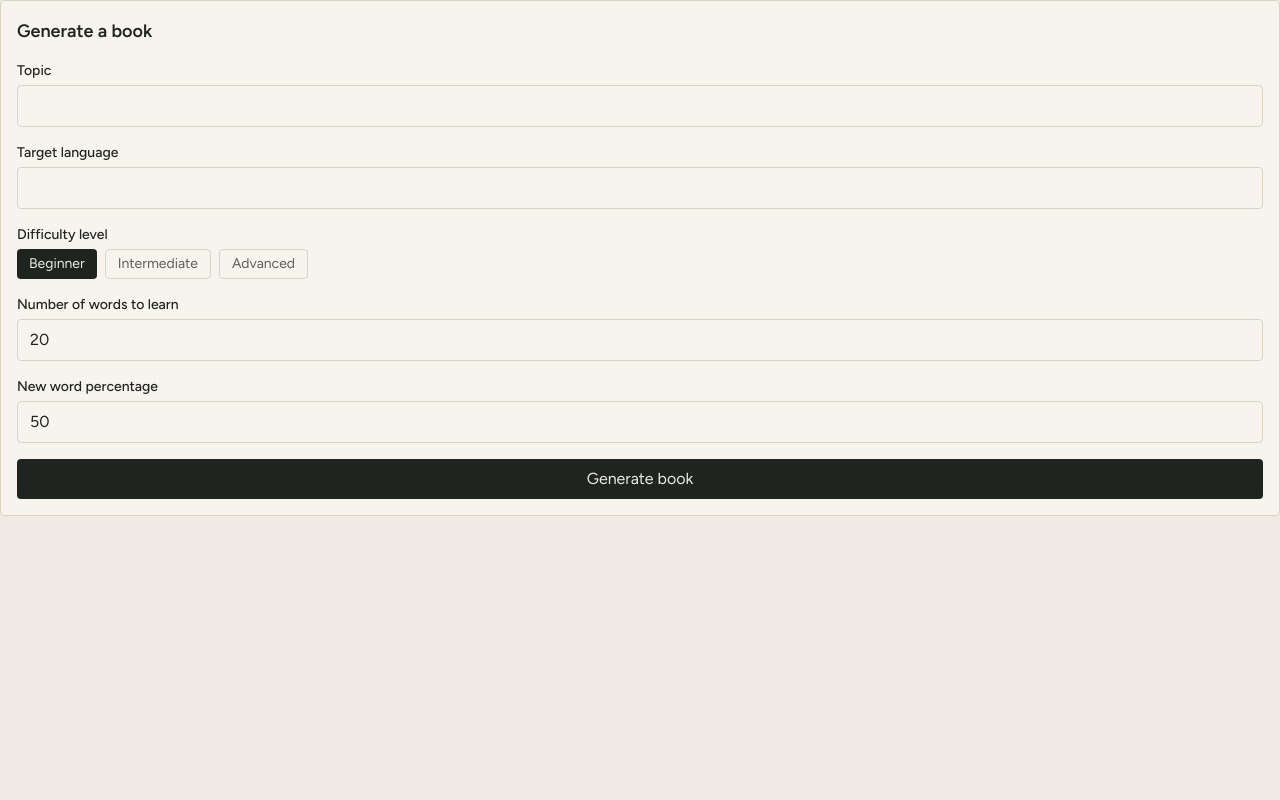
Test: GenerateBookForm › rejects a new word percentage outside 0-100 client-side, without calling fetch
The image size is (1280, 800).
Type "space adventure" into the field labelled "Topic". click: [640, 106]
box: x1=17 y1=85 x2=1263 y2=127
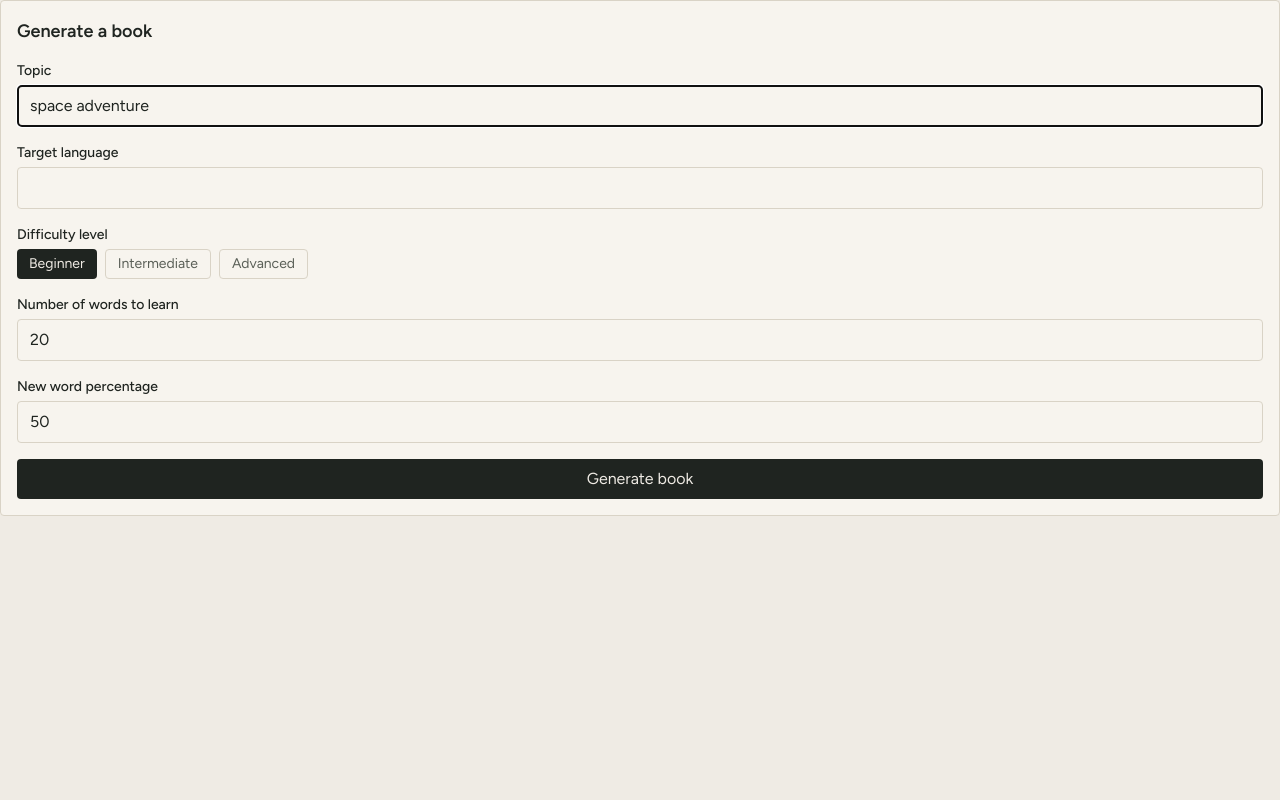
Type "french" into the field labelled "Target language". click: [640, 188]
box: x1=17 y1=167 x2=1263 y2=209
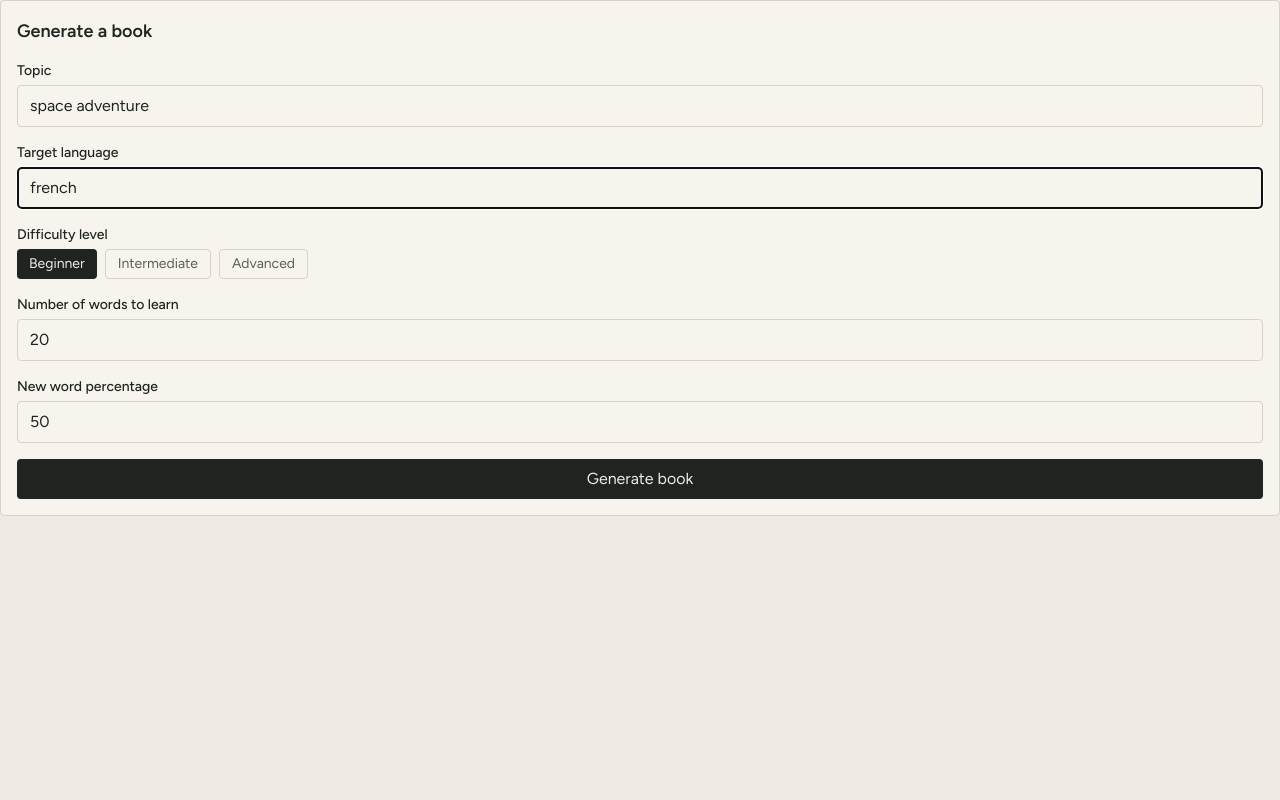
Replace the text in the number field labelled "New word percentage" with "150". click: [640, 422]
box: x1=17 y1=401 x2=1263 y2=443
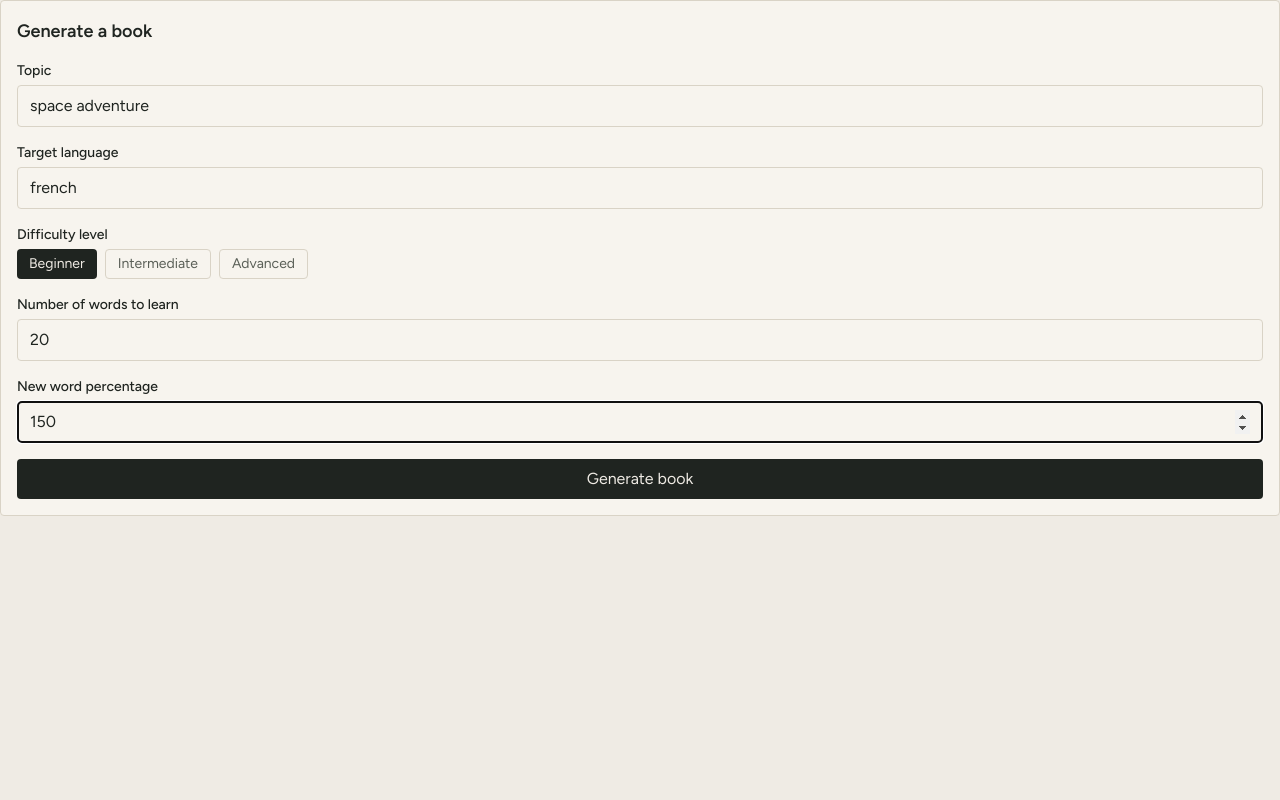
Click the button "Generate book". click: [640, 479]
box: x1=17 y1=459 x2=1263 y2=499
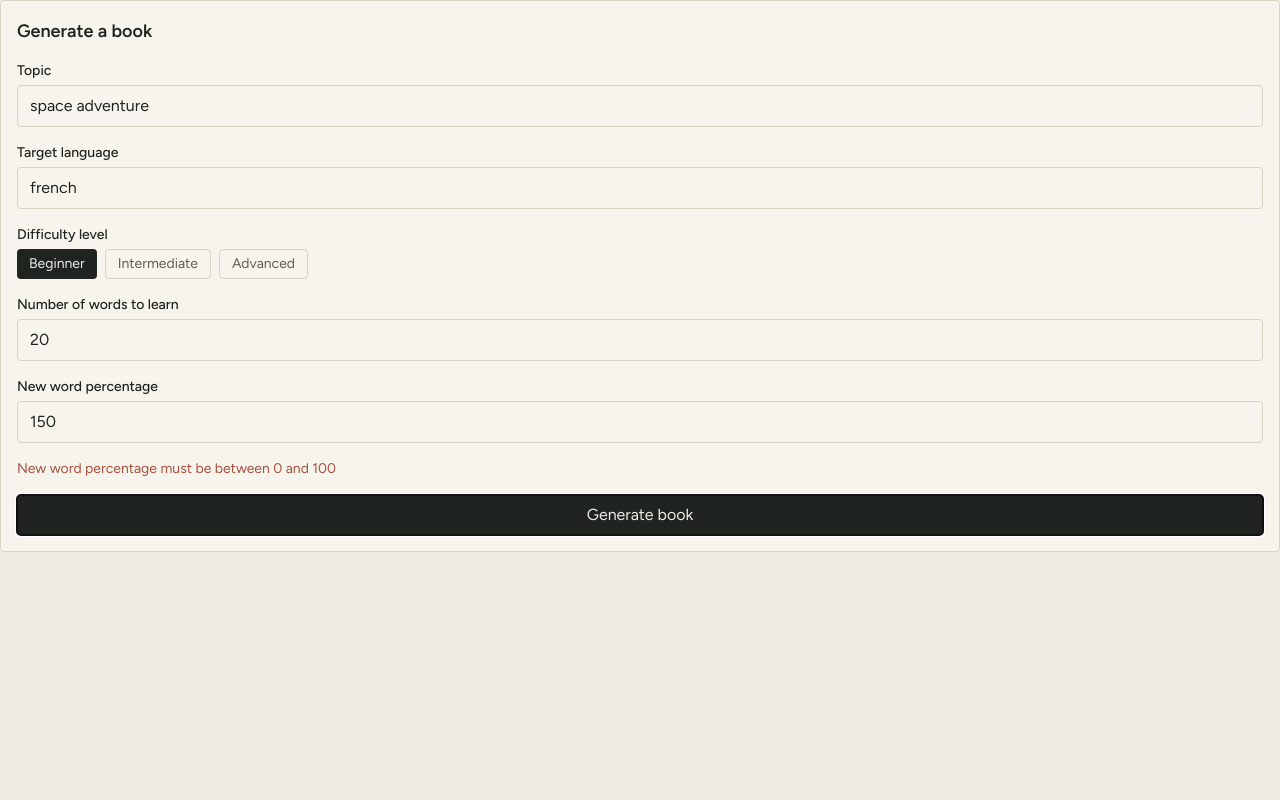
expect the text "New word percentage must be between 0 and 100" is shown: met, box x1=17 y1=460 x2=336 y2=477
